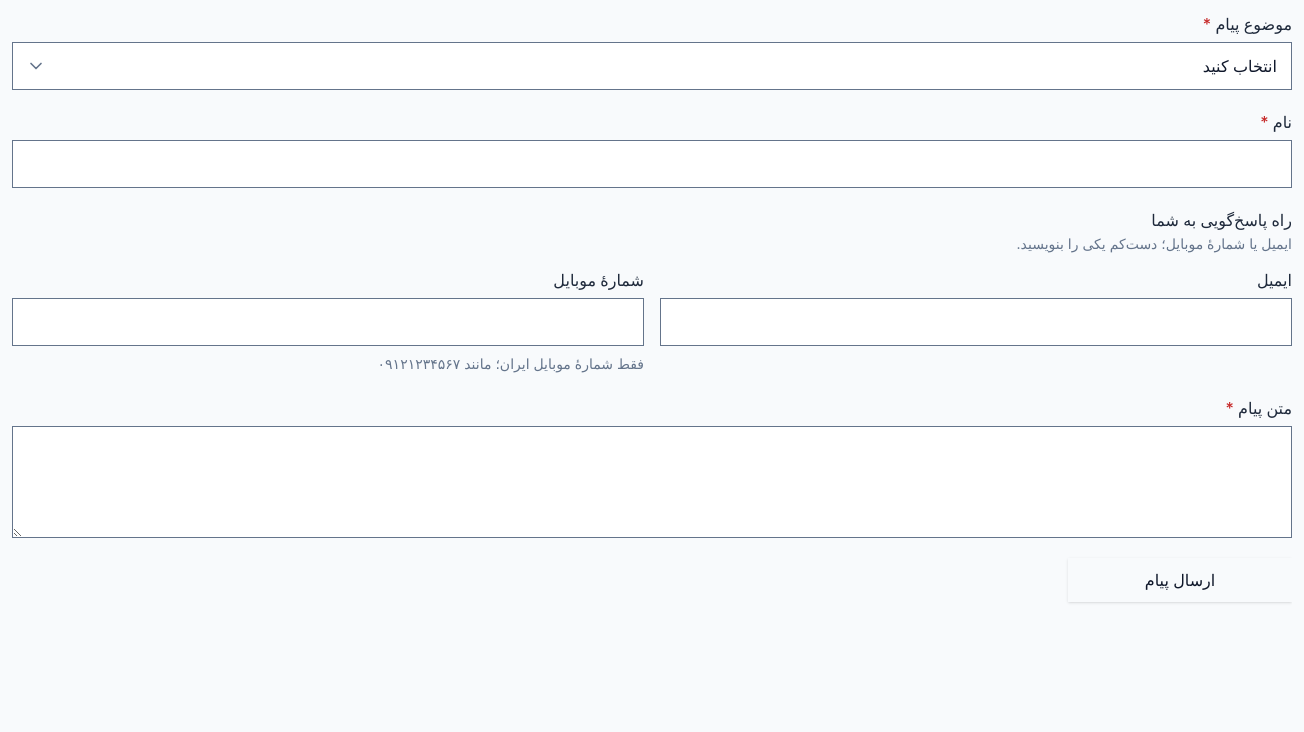
Test: a subject switched off meanwhile (contact_subject_unavailable) › when the list cannot be read again: the API’s sentence under the old select
Select "انتقاد و شکایت" in the dropdown labelled "موضوع پیام *" at [652, 66], box 12,42 -> 1292,90
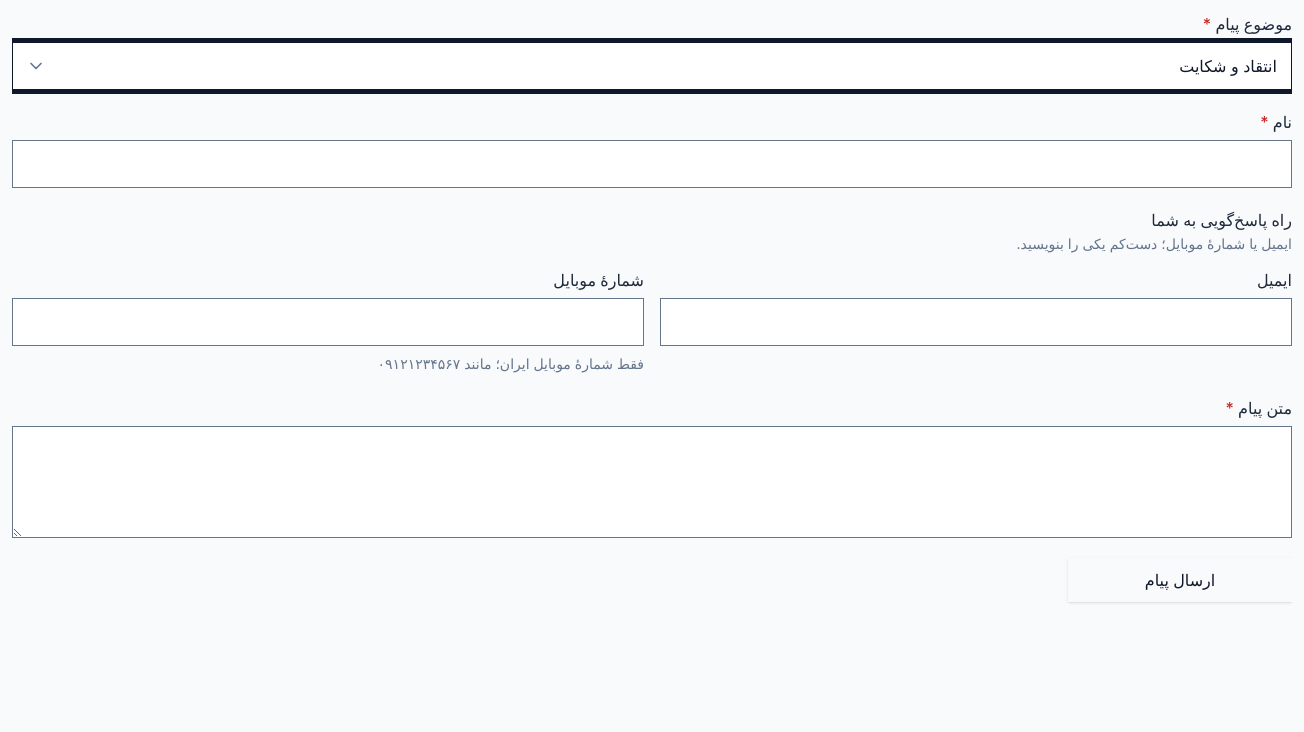
Type "سارا احمدی" into the field labelled "نام *" at [652, 164], box 13,141 -> 1291,187
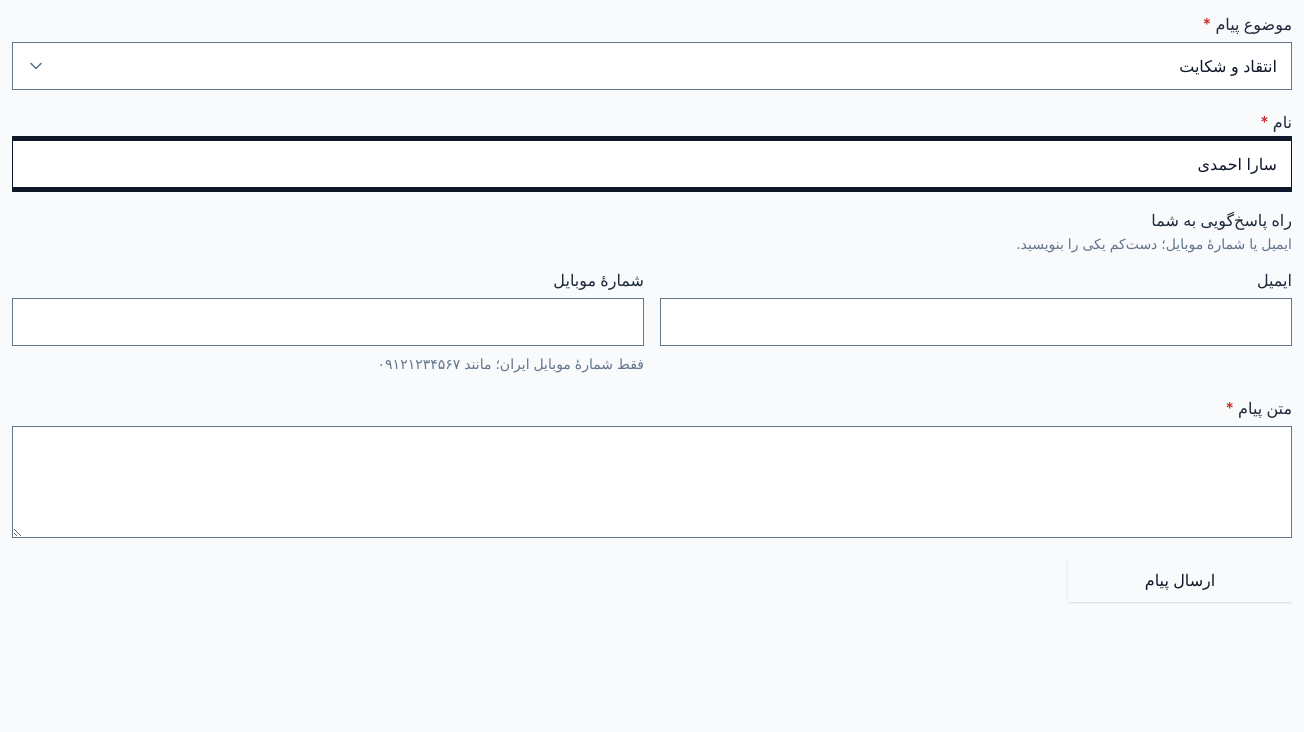
Type "۰۹۱۲ ۱۲۳ ۴۵۶۷" into the field labelled "شمارهٔ موبایل" at [328, 322], box 13,299 -> 643,345
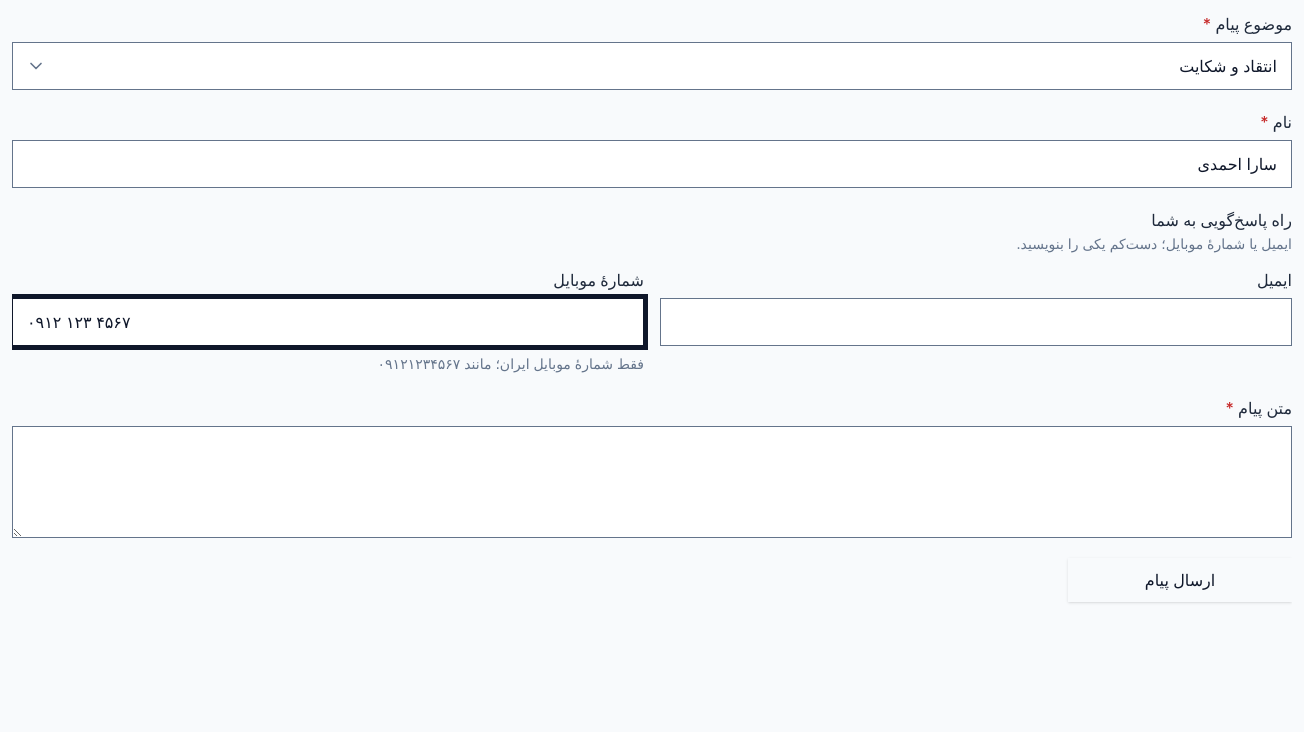
Type "سفارش ۸۴۹۲۳۷۰ هنوز نرسیده است." into the text box labelled "متن پیام *" at [652, 482], box 12,426 -> 1292,538
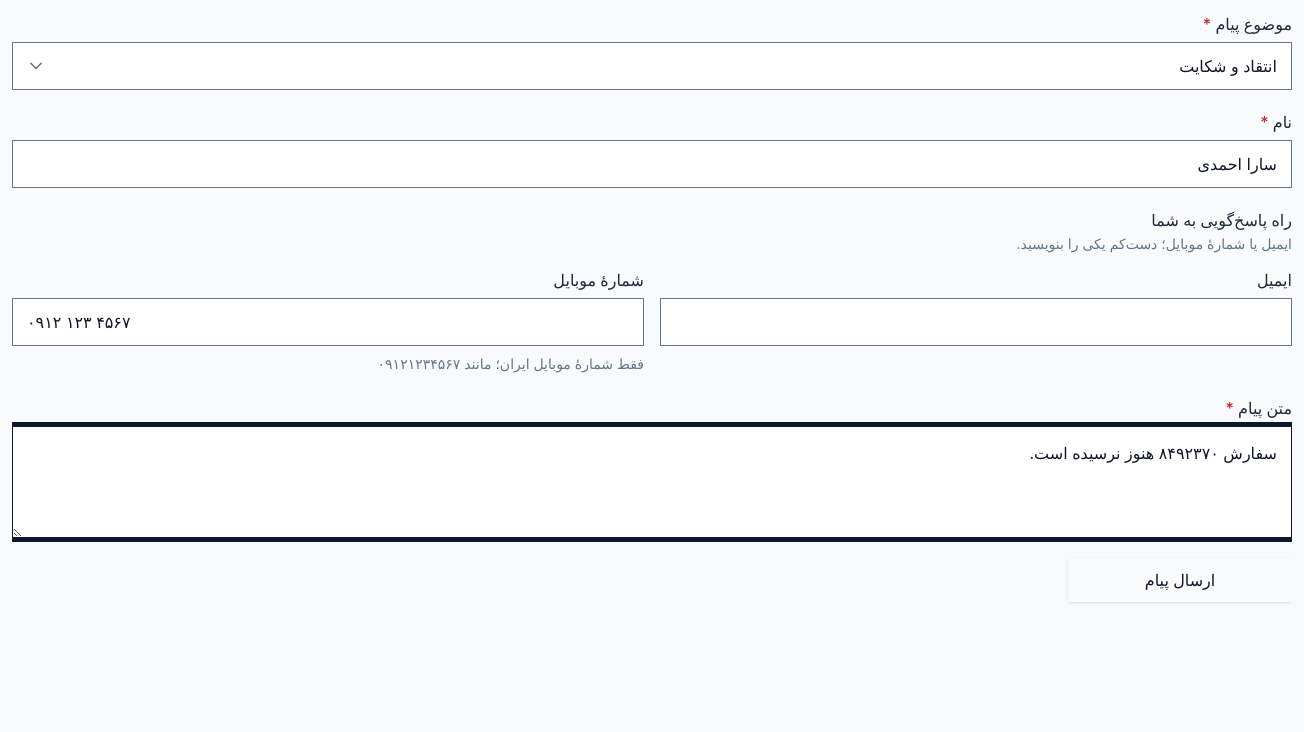
Click the button "ارسال پیام" at [1180, 580], box 1068,558 -> 1292,602
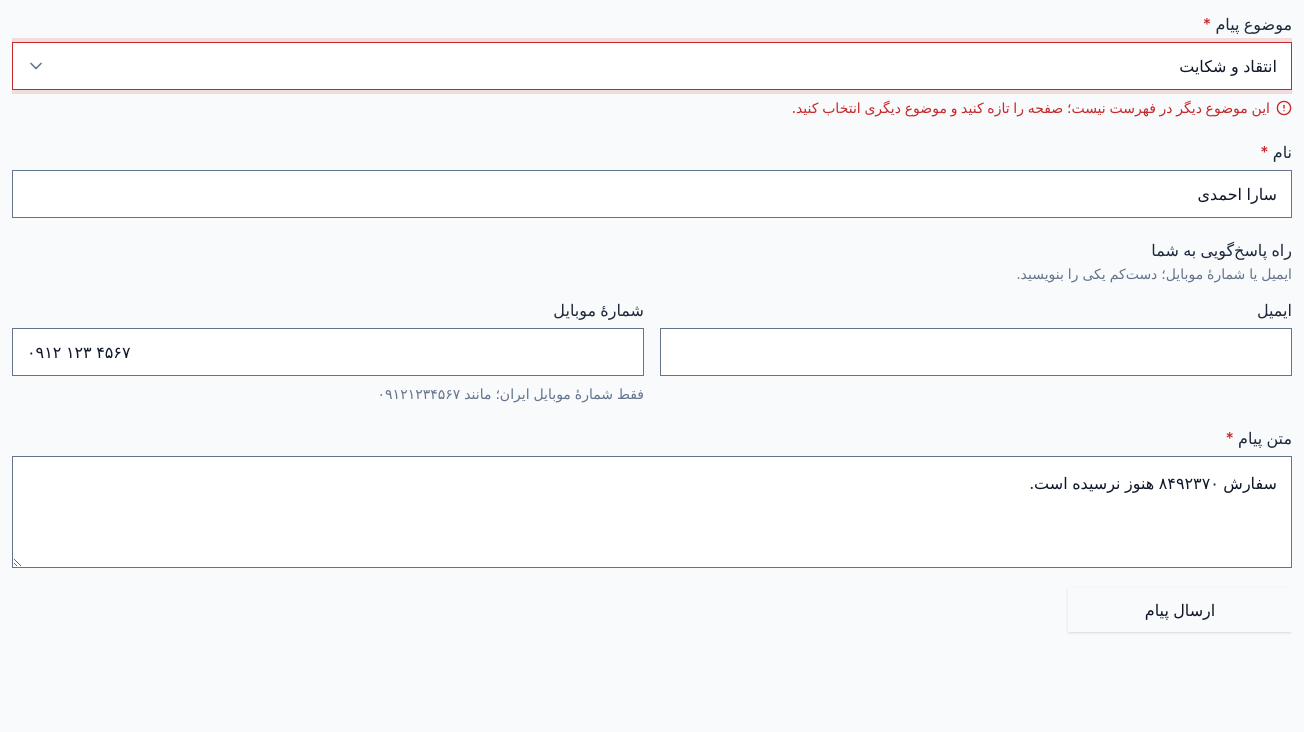
Check: the text "این موضوع دیگر در فهرست نیست" is shown, box 792,99 -> 1270,116
